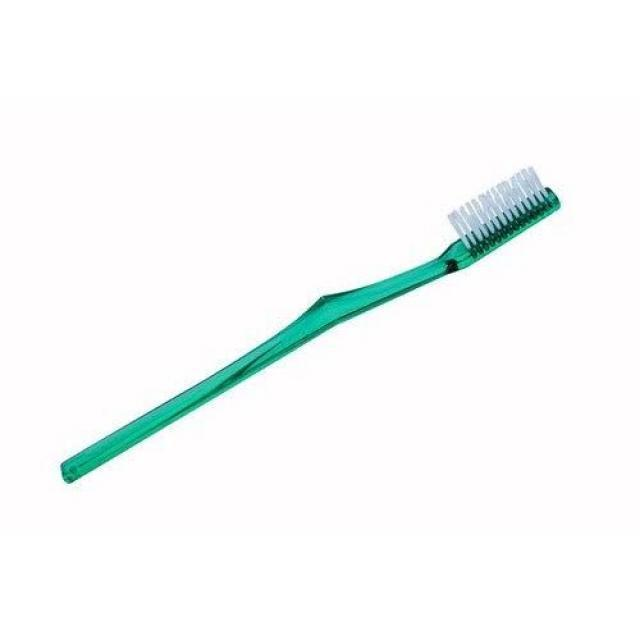toothbrush: (47, 164, 579, 509)
